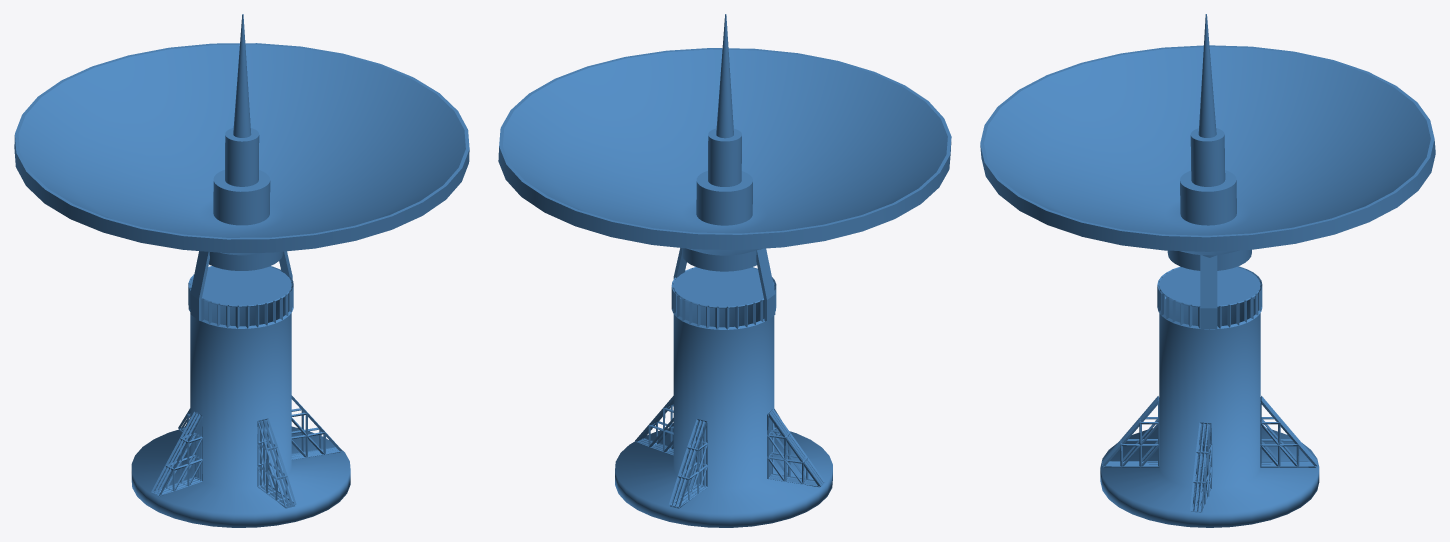
Rendered from sattelite.glb.
3 renders of one model, left to right at view 1: azimuth 30°, elevation 25°; view 2: azimuth 150°, elevation 25°; view 3: azimuth 270°, elevation 25°, orthographic.
Visible parts, largest first — view 1: Dish, Body, Support, Support.001, Grill, HeadSupport; view 2: Dish, Body, Support, Support.001, Grill, HeadSupport; view 3: Dish, Body, Support.001, Grill, Support, HeadSupport.
Part boxes in pixels (x1=…): Dish: x1=14, y1=14, x2=469, y2=270; Body: x1=131, y1=266, x2=350, y2=527; Support: x1=151, y1=395, x2=342, y2=496; Support.001: x1=178, y1=408, x2=296, y2=508; Grill: x1=188, y1=266, x2=293, y2=328; HeadSupport: x1=190, y1=251, x2=292, y2=320; Dish: x1=498, y1=14, x2=951, y2=271; Body: x1=615, y1=267, x2=832, y2=527; Support: x1=635, y1=396, x2=824, y2=487; Support.001: x1=669, y1=409, x2=781, y2=508; Grill: x1=671, y1=267, x2=776, y2=329; HeadSupport: x1=673, y1=248, x2=775, y2=321; Dish: x1=980, y1=14, x2=1435, y2=270; Body: x1=1100, y1=267, x2=1319, y2=527; Support.001: x1=1102, y1=396, x2=1317, y2=467; Grill: x1=1157, y1=266, x2=1262, y2=329; Support: x1=1190, y1=422, x2=1212, y2=512; HeadSupport: x1=1200, y1=255, x2=1217, y2=329.
Size of the model in its own units: 4.15 by 4.71 by 4.16.
